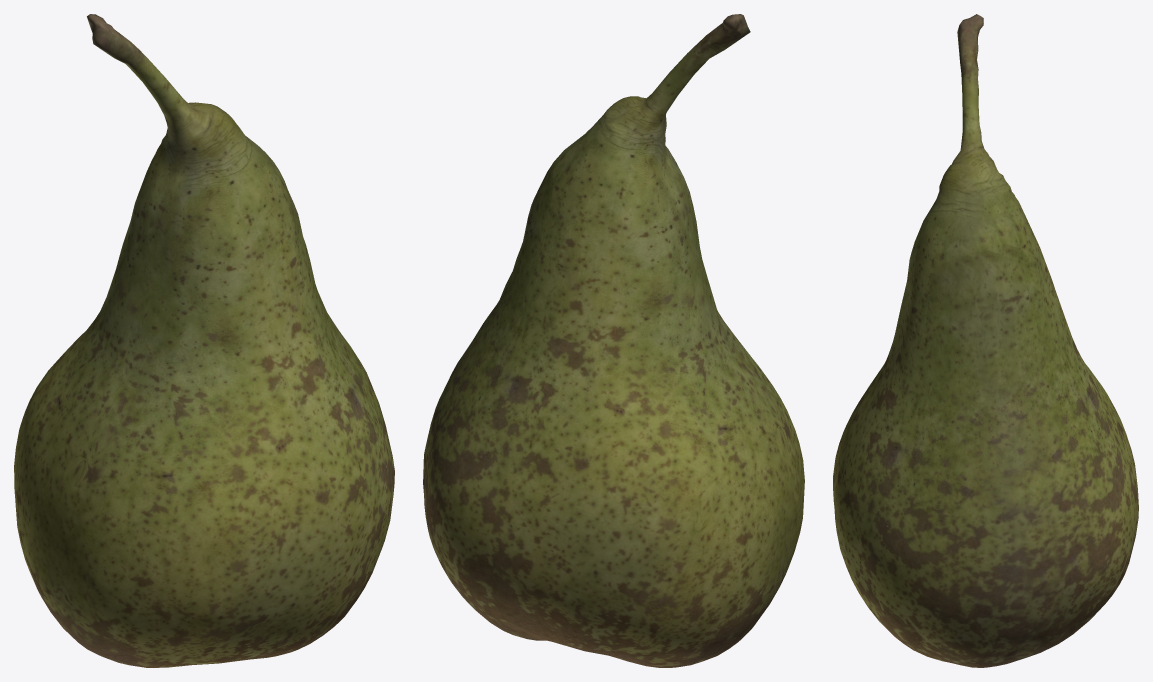
File: pear.glb
3 renders of one model, left to right at view 1: azimuth 30°, elevation 25°; view 2: azimuth 150°, elevation 25°; view 3: azimuth 270°, elevation 25°, orthographic. The views are drawn at different scales.
Visible parts, largest first — view 1: Fruit Pear; view 2: Fruit Pear; view 3: Fruit Pear.
Boxes of the visible parts, x1,y1,x2,y2 form: Fruit Pear: (14,14,394,667); Fruit Pear: (423,14,804,667); Fruit Pear: (833,14,1138,667).
Size of the model in its own units: 0.7413 by 1.39 by 0.6725.
1 material, 1 textured.
